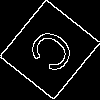C: (25, 25, 85, 83)
